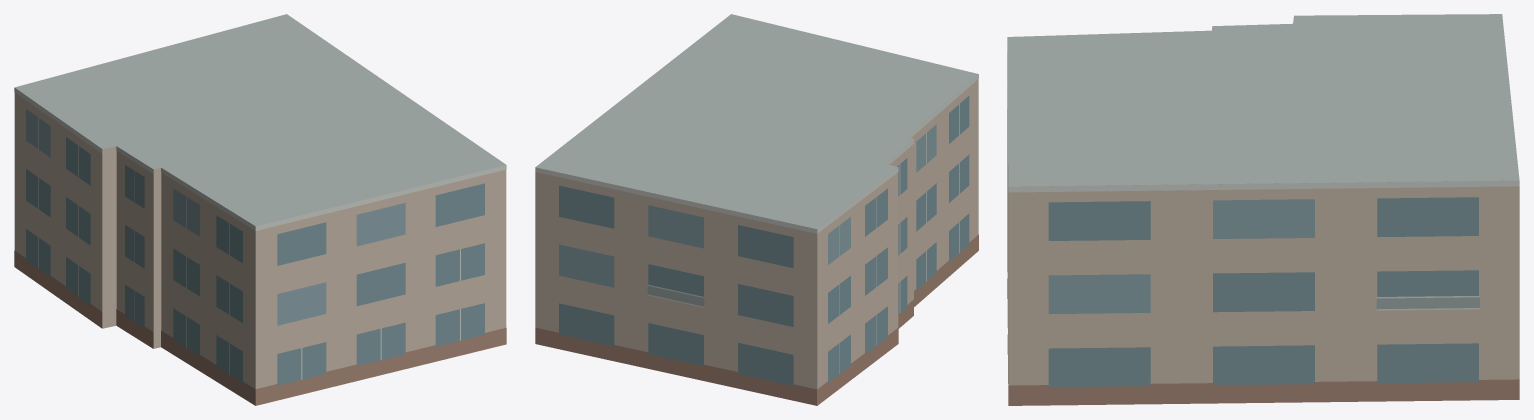
The model's file is survey-upis-32498336.glb.
3 views of the same model, side by side, from view 1: azimuth 30°, elevation 25°; view 2: azimuth 150°, elevation 25°; view 3: azimuth 270°, elevation 25° (orthographic). The views are drawn at different scales.
Parts seen in each view (by area): view 1: survey-upis-32498336.tmp; view 2: survey-upis-32498336.tmp; view 3: survey-upis-32498336.tmp.
Boxes of the visible parts, box(x1,y1,x2,y2) form: survey-upis-32498336.tmp: box(14, 14, 506, 405); survey-upis-32498336.tmp: box(535, 14, 978, 405); survey-upis-32498336.tmp: box(1007, 14, 1519, 405).
Size of the model in its own units: 15.46 by 9.15 by 19.38.
